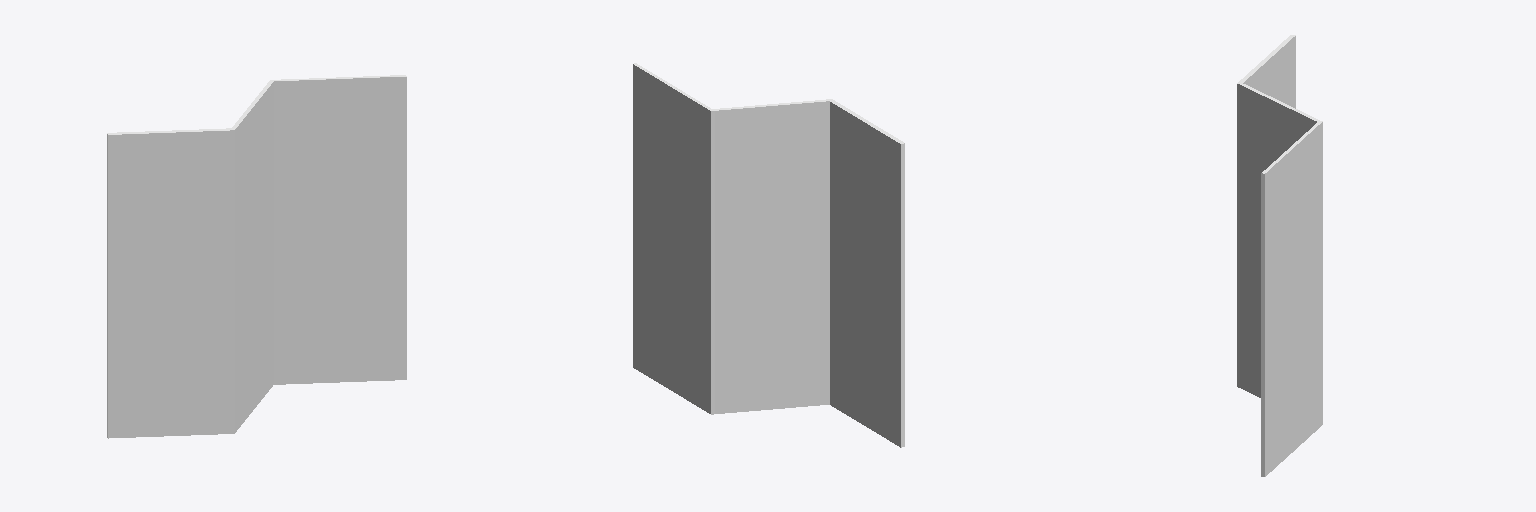
The model's file is map.obj.
3 views of the same model, side by side, from view 1: azimuth 30°, elevation 25°; view 2: azimuth 150°, elevation 25°; view 3: azimuth 270°, elevation 25° (orthographic).
Parts seen in each view (by area): view 1: Box001; view 2: Box001; view 3: Box001.
Boxes of the visible parts, x1=… form: Box001: x1=107, y1=75, x2=406, y2=438; Box001: x1=633, y1=63, x2=904, y2=447; Box001: x1=1237, y1=35, x2=1322, y2=476.
Bounding box in the file's own units: 50.17 × 50.93 × 13.02.